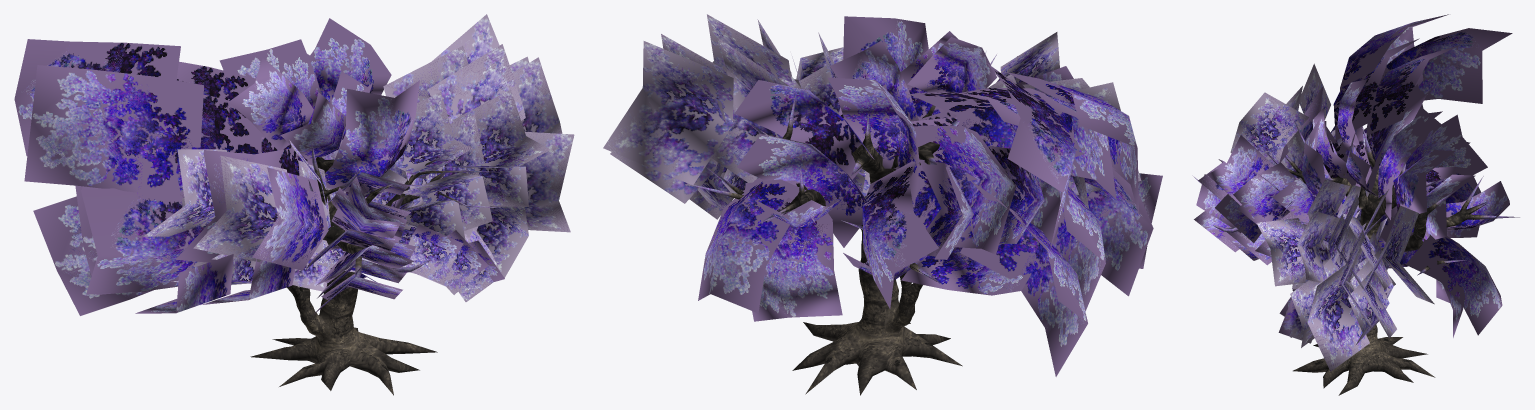
File: BlueTree.obj
3 renders of one model, left to right at view 1: azimuth 30°, elevation 25°; view 2: azimuth 150°, elevation 25°; view 3: azimuth 270°, elevation 25°, orthographic. The views are drawn at different scales.
Parts seen in each view (by area): view 1: BlueTree; view 2: BlueTree; view 3: BlueTree.
Part boxes in pixels (left/top/right/bottom): BlueTree: left=14, top=14, right=574, bottom=395; BlueTree: left=603, top=14, right=1162, bottom=395; BlueTree: left=1192, top=14, right=1519, bottom=395.
Bounding box in the file's own units: 37304 × 23256 × 25869.
Materials: 1 (1 with a texture image).
